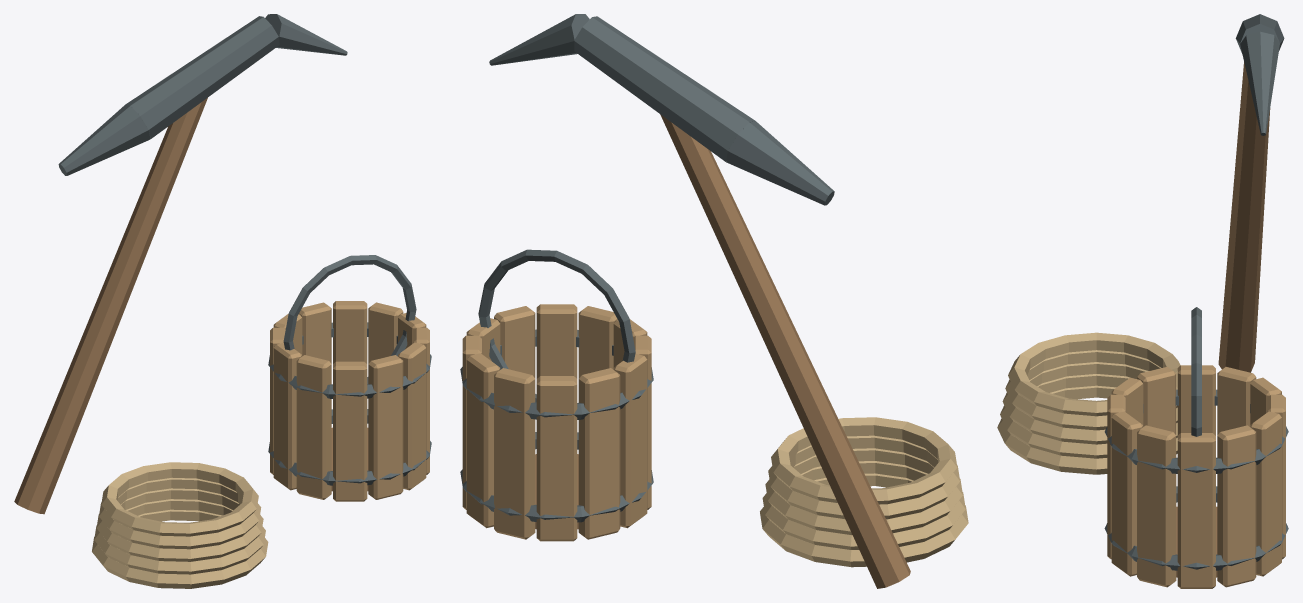
File: cave_detail_tools.glb
The picture shows the model from 3 angles, left to right: view 1: azimuth 30°, elevation 25°; view 2: azimuth 150°, elevation 25°; view 3: azimuth 270°, elevation 25°; orthographic projection. The views are drawn at different scales.
Parts seen in each view (by area): view 1: Pickaxe ash handle, Pickaxe iron centre, Coiled hemp rope.004, Bucket wooden stave.008, Bucket wooden stave.009, Bucket wooden stave.007, Coiled hemp rope.003, Coiled hemp rope.002, Coiled hemp rope.001, Coiled hemp rope, Bucket wooden stave.010, Bucket wooden stave.006 (+10 smaller); view 2: Pickaxe ash handle, Pickaxe iron centre, Bucket wooden stave.004, Bucket wooden stave.005, Bucket wooden stave.003, Coiled hemp rope.004, Bucket wooden stave.002, Bucket wooden stave.006, Pickaxe chisel, Coiled hemp rope.003, Coiled hemp rope.002, Coiled hemp rope.001 (+11 smaller); view 3: Pickaxe ash handle, Bucket wooden stave.001, Bucket wooden stave.011, Bucket wooden stave, Coiled hemp rope.004, Bucket wooden stave.010, Bucket wooden stave.002, Coiled hemp rope.003, Coiled hemp rope.002, Coiled hemp rope.001, Coiled hemp rope, Pickaxe pointed blade (+11 smaller).
Part boxes in pixels (left/top/right/bottom): Pickaxe ash handle: left=14, top=97, right=207, bottom=514; Pickaxe iron centre: left=125, top=16, right=279, bottom=138; Coiled hemp rope.004: left=101, top=462, right=258, bottom=536; Bucket wooden stave.008: left=333, top=361, right=367, bottom=501; Bucket wooden stave.009: left=368, top=355, right=403, bottom=499; Bucket wooden stave.007: left=296, top=355, right=331, bottom=499; Coiled hemp rope.003: left=99, top=477, right=261, bottom=549; Coiled hemp rope.002: left=96, top=488, right=263, bottom=561; Coiled hemp rope.001: left=94, top=499, right=265, bottom=574; Coiled hemp rope: left=92, top=509, right=268, bottom=588; Bucket wooden stave.010: left=398, top=342, right=426, bottom=490; Bucket wooden stave.006: left=273, top=343, right=302, bottom=490; Pickaxe ash handle: left=660, top=114, right=910, bottom=588; Pickaxe iron centre: left=574, top=16, right=755, bottom=161; Bucket wooden stave.004: left=536, top=376, right=577, bottom=541; Bucket wooden stave.005: left=578, top=368, right=620, bottom=539; Bucket wooden stave.003: left=494, top=368, right=535, bottom=539; Coiled hemp rope.004: left=771, top=417, right=957, bottom=504; Bucket wooden stave.002: left=466, top=353, right=500, bottom=528; Bucket wooden stave.006: left=613, top=353, right=647, bottom=528; Pickaxe chisel: left=726, top=121, right=834, bottom=205; Coiled hemp rope.003: left=768, top=435, right=960, bottom=519; Coiled hemp rope.002: left=765, top=448, right=962, bottom=534; Coiled hemp rope.001: left=762, top=461, right=965, bottom=549; Pickaxe ash handle: left=1218, top=62, right=1270, bottom=372; Bucket wooden stave.001: left=1217, top=425, right=1256, bottom=587; Bucket wooden stave.011: left=1137, top=425, right=1176, bottom=587; Bucket wooden stave: left=1177, top=433, right=1215, bottom=588; Coiled hemp rope.004: left=1008, top=332, right=1180, bottom=416; Bucket wooden stave.010: left=1111, top=411, right=1143, bottom=576; Bucket wooden stave.002: left=1250, top=411, right=1281, bottom=576; Coiled hemp rope.003: left=1005, top=350, right=1177, bottom=430; Coiled hemp rope.002: left=1002, top=362, right=1177, bottom=444; Coiled hemp rope.001: left=1000, top=374, right=1177, bottom=458; Coiled hemp rope: left=997, top=385, right=1177, bottom=474; Pickaxe pointed blade: left=1240, top=31, right=1279, bottom=135.
Size of the model in its own units: 1.49 by 1.65 by 0.874.
